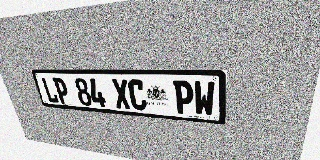4: (87, 78, 107, 107)
8: (73, 78, 93, 106)
C: (127, 79, 147, 111)
L: (41, 77, 59, 103)
P: (173, 80, 194, 115), (52, 77, 71, 104)
W: (194, 81, 215, 117)
X: (111, 79, 131, 109)
